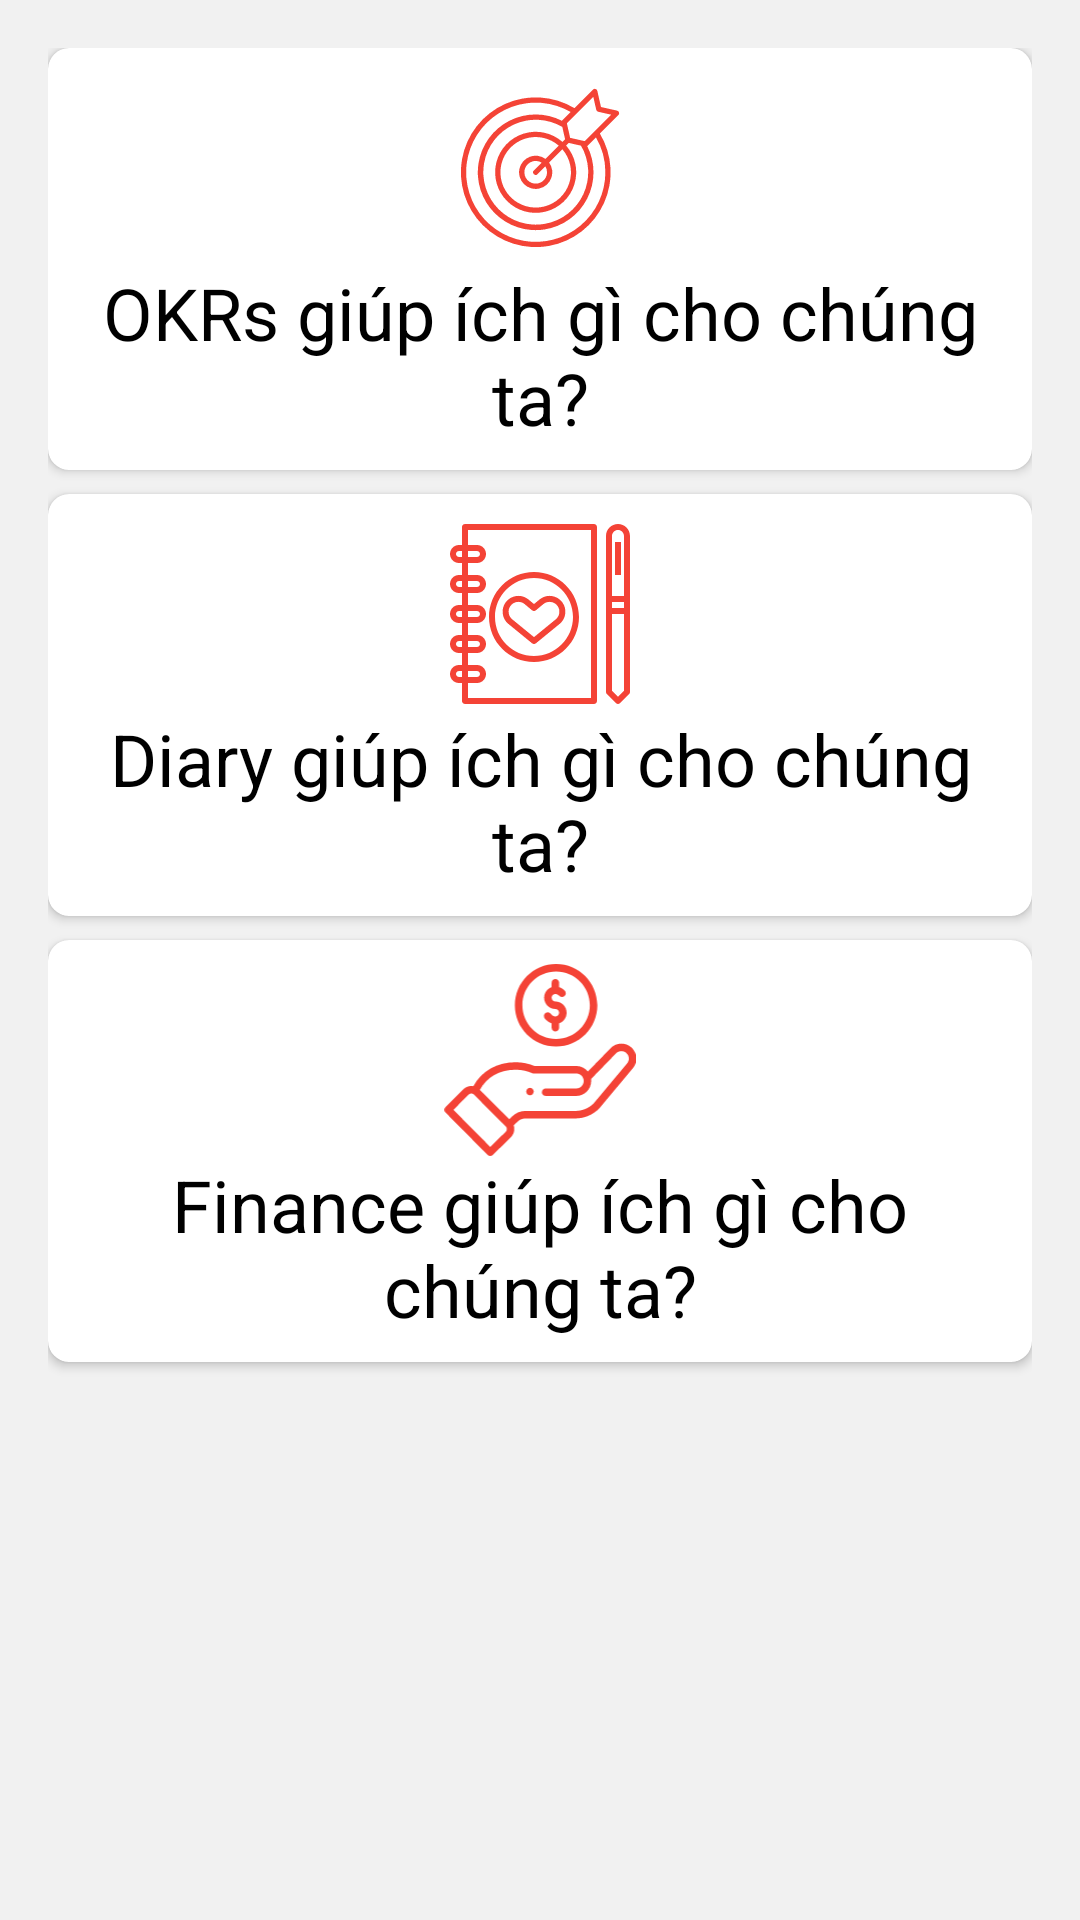

Locate icon controls on the screen. Image size 1080×1920, boxes as (x1, y1, x2, y2).
goal: (461, 88, 619, 247)
hand: (444, 964, 636, 1156)
